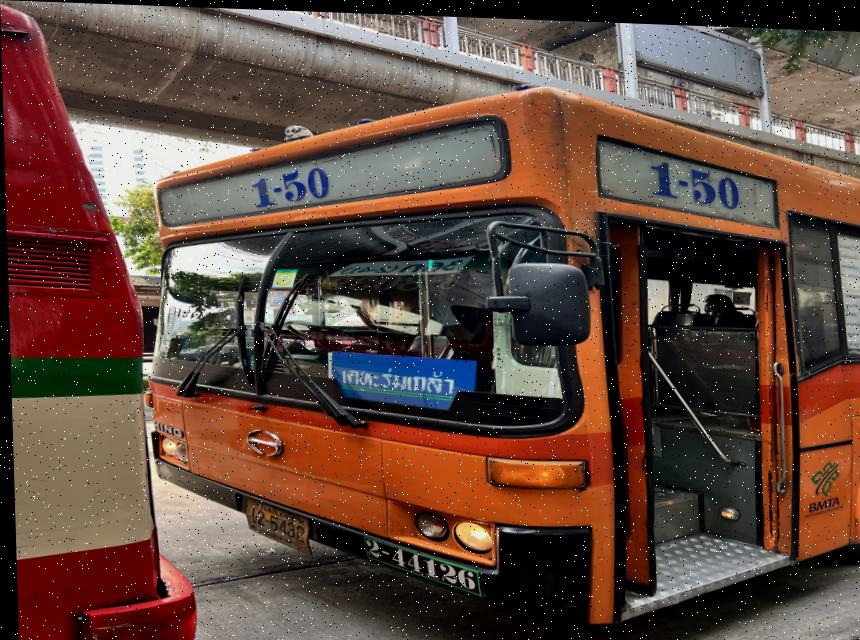BMTA-bus: (141, 84, 860, 623)
Bus Line Number: (633, 149, 749, 207), (240, 159, 340, 212)
Bus Side Number: (329, 536, 486, 596)
Destination Sign: (322, 346, 473, 412)
